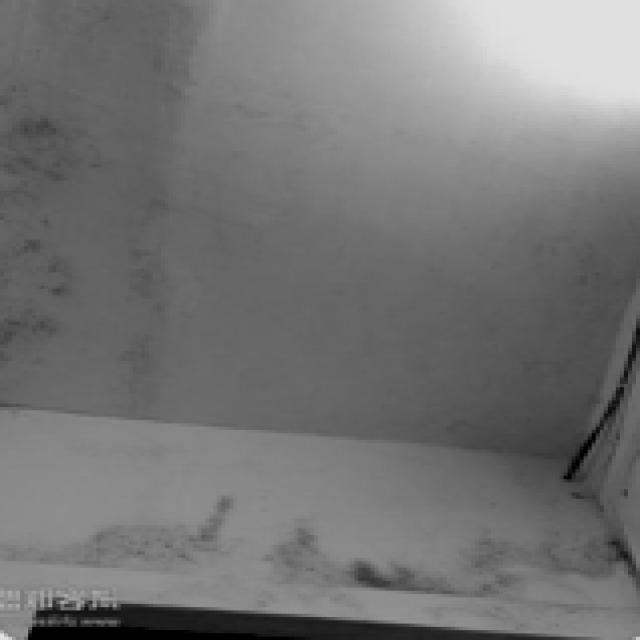stain marks: (0, 5, 225, 415), (0, 489, 640, 612), (400, 163, 635, 466), (227, 66, 340, 272)
